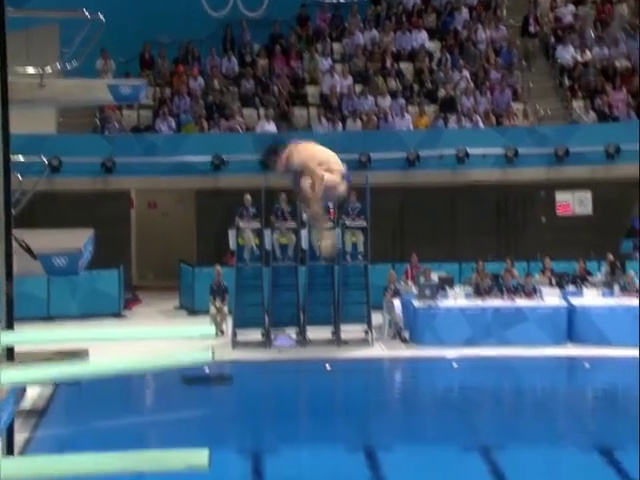diver: (259, 138, 350, 257)
